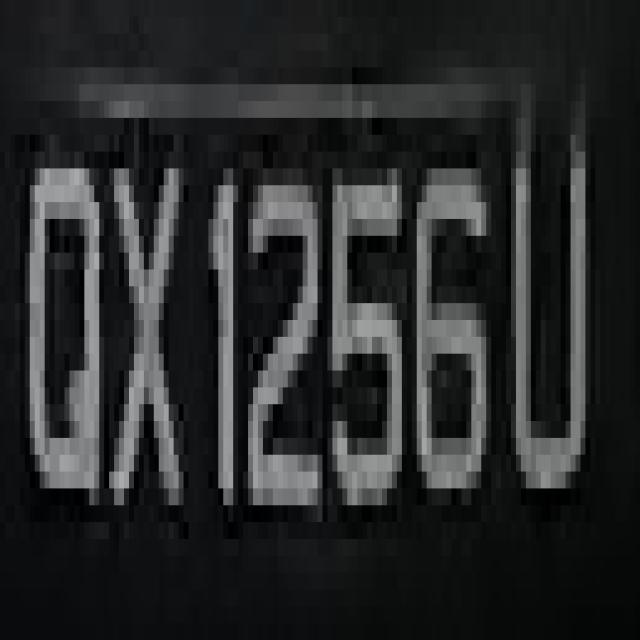1: (199, 118, 243, 573)
2: (243, 118, 333, 573)
5: (327, 118, 412, 522)
6: (407, 135, 486, 505)
Q: (15, 135, 109, 556)
U: (506, 101, 595, 505)
X: (84, 101, 184, 556)
